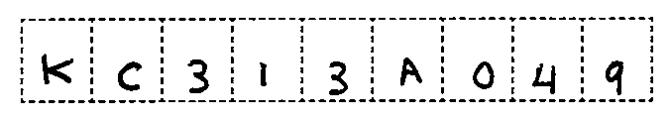0: (463, 56, 499, 93)
1: (250, 56, 280, 90)
3: (181, 53, 212, 98), (322, 57, 351, 98)
4: (522, 58, 567, 98)
9: (595, 57, 633, 97)
A: (393, 53, 429, 89)
C: (115, 57, 147, 95)
K: (32, 50, 79, 89)
